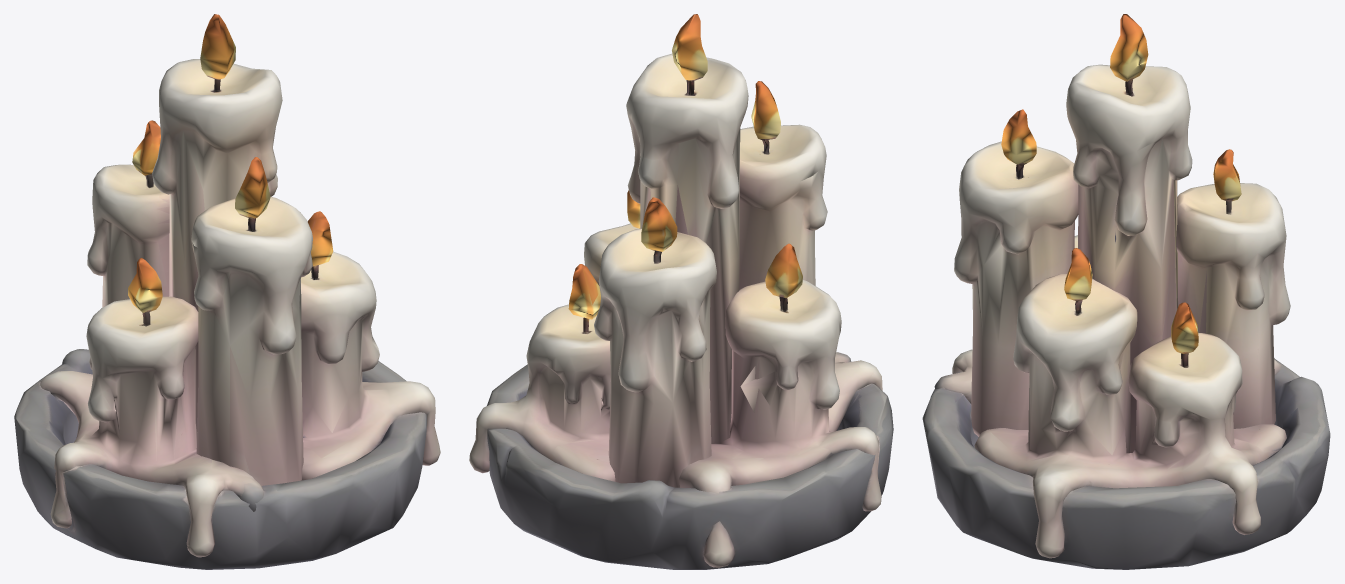
Rendered from L10_CandleCluster_LOD0.fbx.
3 renders of one model, left to right at view 1: azimuth 30°, elevation 25°; view 2: azimuth 150°, elevation 25°; view 3: azimuth 270°, elevation 25°, orthographic.
Visible parts, largest first — view 1: PART_Body.001, PART_Flame_11.001, PART_Flame_08.001, PART_Flame_10.001, PART_Flame_06.001, PART_Flame_07.001; view 2: PART_Body.001, PART_Flame_11.001, PART_Flame_06.001, PART_Flame_10.001, PART_Flame_09.001, PART_Flame_08.001; view 3: PART_Body.001, PART_Flame_11.001, PART_Flame_08.001, PART_Flame_07.001, PART_Flame_09.001, PART_Flame_06.001.
Part boxes in pixels (x1=…): PART_Body.001: x1=14, y1=59, x2=440, y2=569; PART_Flame_11.001: x1=200, y1=14, x2=235, y2=79; PART_Flame_08.001: x1=235, y1=157, x2=270, y2=218; PART_Flame_10.001: x1=128, y1=258, x2=162, y2=312; PART_Flame_06.001: x1=132, y1=120, x2=160, y2=175; PART_Flame_07.001: x1=307, y1=211, x2=333, y2=266; PART_Body.001: x1=469, y1=53, x2=893, y2=569; PART_Flame_11.001: x1=672, y1=14, x2=707, y2=80; PART_Flame_06.001: x1=641, y1=197, x2=677, y2=251; PART_Flame_10.001: x1=765, y1=243, x2=802, y2=298; PART_Flame_09.001: x1=568, y1=264, x2=600, y2=319; PART_Flame_08.001: x1=751, y1=81, x2=780, y2=139; PART_Body.001: x1=922, y1=64, x2=1330, y2=569; PART_Flame_11.001: x1=1110, y1=14, x2=1148, y2=81; PART_Flame_08.001: x1=1001, y1=109, x2=1036, y2=165; PART_Flame_07.001: x1=1064, y1=248, x2=1092, y2=301; PART_Flame_09.001: x1=1171, y1=302, x2=1198, y2=354; PART_Flame_06.001: x1=1213, y1=149, x2=1241, y2=201.
Size of the model in its own units: 0.2746 by 0.35 by 0.2729.
Materials: 7 (7 with a texture image).
